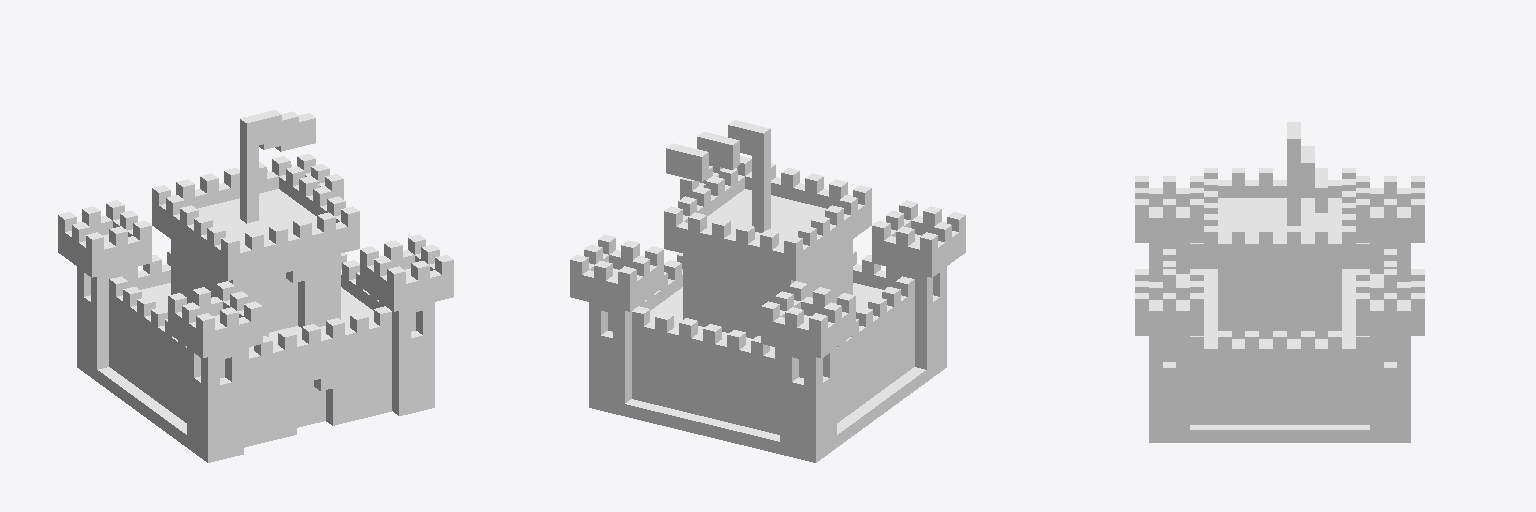
Rendered from updatedCastle.obj.
3 renders of one model, left to right at view 1: azimuth 30°, elevation 25°; view 2: azimuth 150°, elevation 25°; view 3: azimuth 270°, elevation 25°, orthographic.
Visible parts, largest first — view 1: object 1; view 2: object 1; view 3: object 1.
Boxes of the visible parts, x1,y1,x2,y2 form: object 1: [58, 110, 453, 462]; object 1: [570, 120, 965, 462]; object 1: [1135, 122, 1424, 442].
Size of the model in its own units: 2.1 by 2.1 by 2.1.